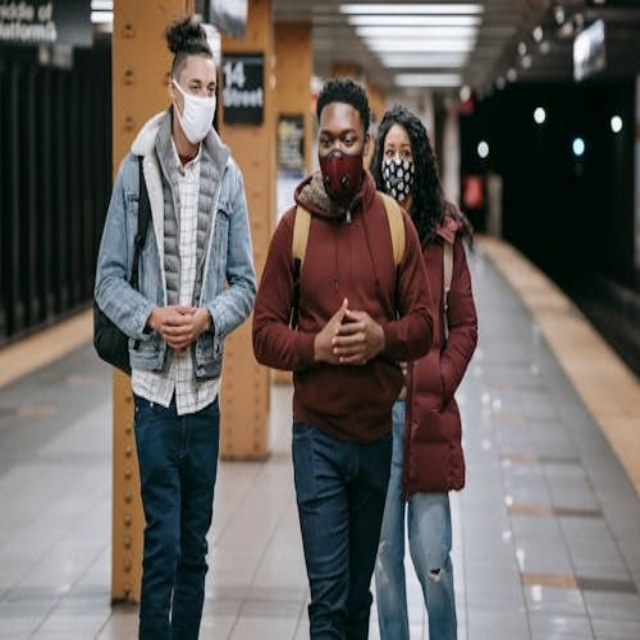Mascara: (170, 78, 216, 143), (319, 149, 364, 204), (380, 157, 416, 202)
Sin_gafas: (312, 119, 358, 142), (180, 75, 220, 98), (381, 140, 411, 158)
Sin_guantes: (315, 292, 384, 367), (156, 304, 203, 353)
